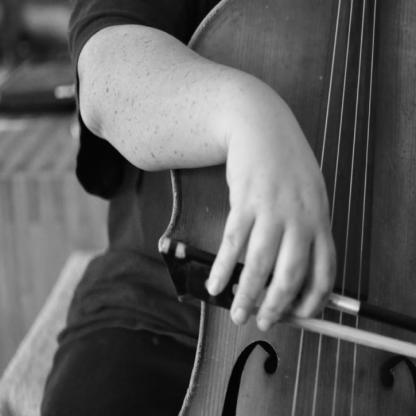good: (195, 126, 344, 342)
